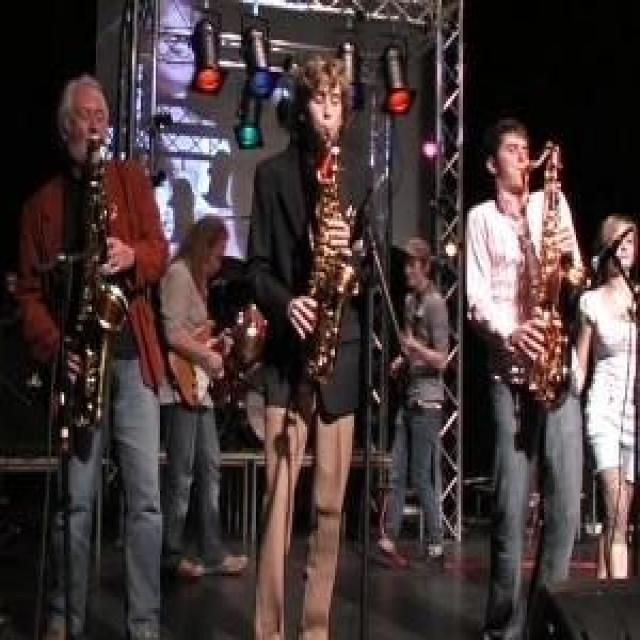guitar: (158, 303, 258, 406)
saxophone: (58, 134, 136, 448), (304, 128, 362, 394), (516, 142, 572, 399)
